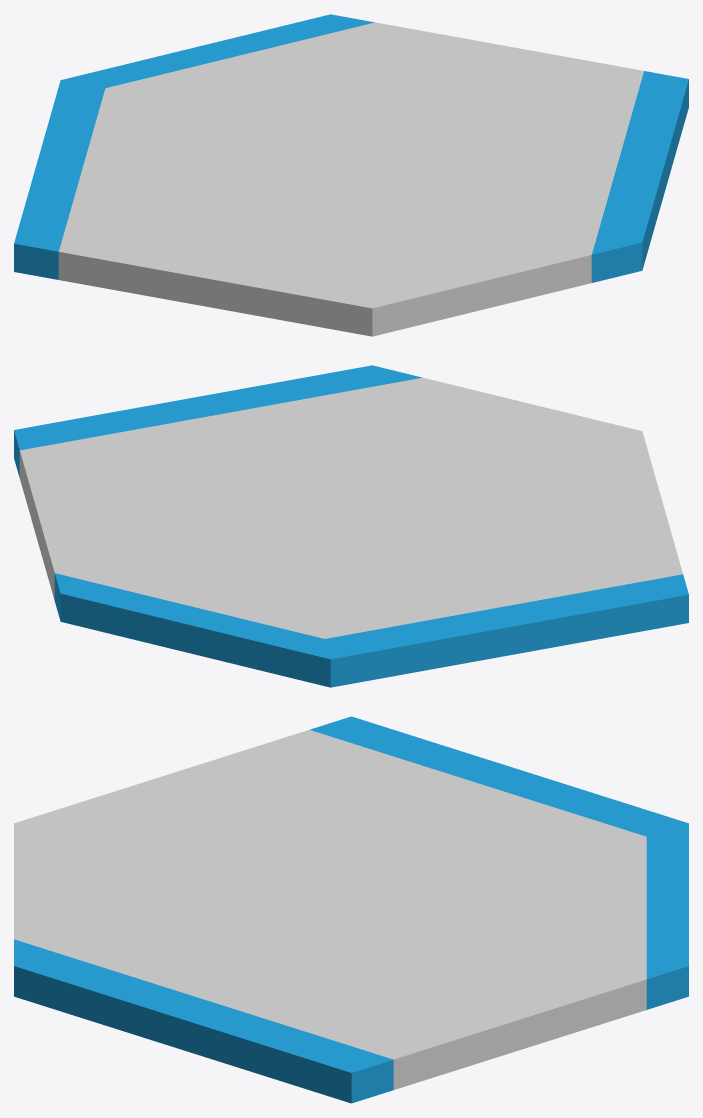
The picture shows the model from 3 angles, top to bottom: view 1: azimuth 30°, elevation 25°; view 2: azimuth 150°, elevation 25°; view 3: azimuth 270°, elevation 25°; orthographic projection. The views are drawn at different scales.
Parts seen in each view (by area): view 1: Hexagon, SE.001, NW, N; view 2: Hexagon, NW, N, SE.001; view 3: Hexagon, SE.001, NW, N.
Part boxes in pixels (bbox=[...]): Hexagon: bbox=[58, 22, 643, 336]; SE.001: bbox=[591, 71, 688, 282]; NW: bbox=[14, 80, 105, 279]; N: bbox=[61, 14, 374, 88]; Hexagon: bbox=[19, 377, 682, 638]; NW: bbox=[325, 574, 688, 687]; N: bbox=[54, 573, 330, 687]; SE.001: bbox=[14, 365, 421, 477]; Hexagon: bbox=[14, 730, 646, 1089]; SE.001: bbox=[14, 939, 393, 1103]; NW: bbox=[309, 716, 688, 836]; N: bbox=[646, 823, 688, 1009].
Size of the model in its own units: 5 by 4 by 0.2.
